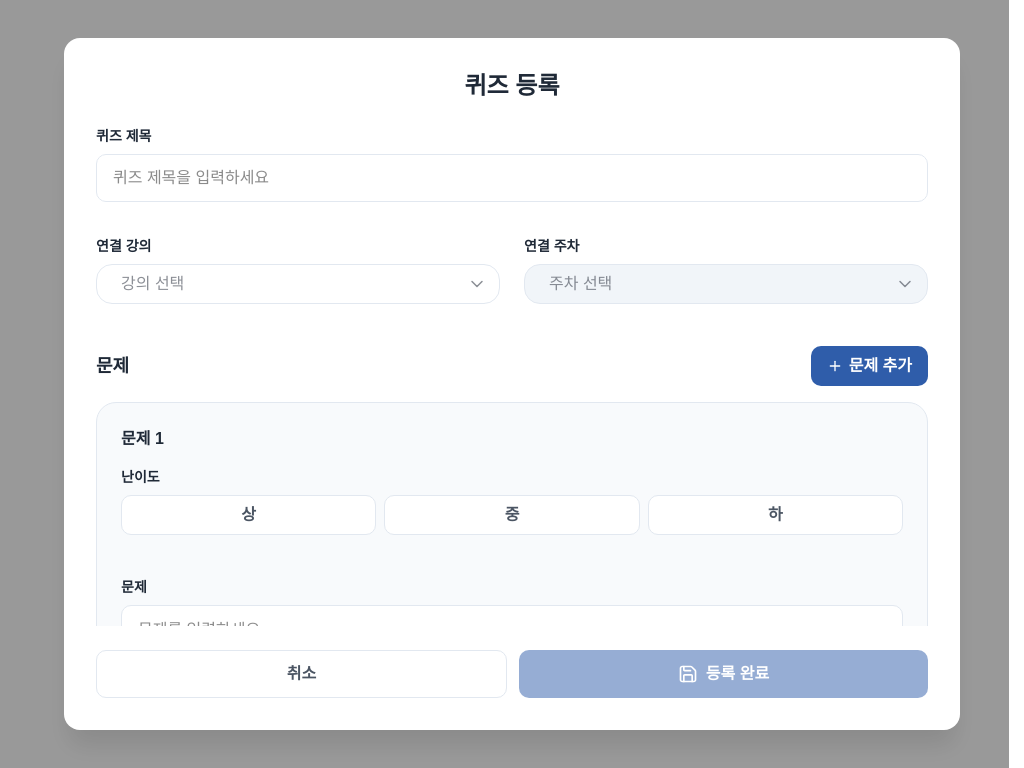
QuizFormModal — 퀴즈 등록 모달 통합 › 필수 빈칸 검증 › 난이도 선택하면 난이도 에러 해제 (BE 필수 필드)
Click the button "등록 완료".
click(724, 674)  # box [519,650,928,698]
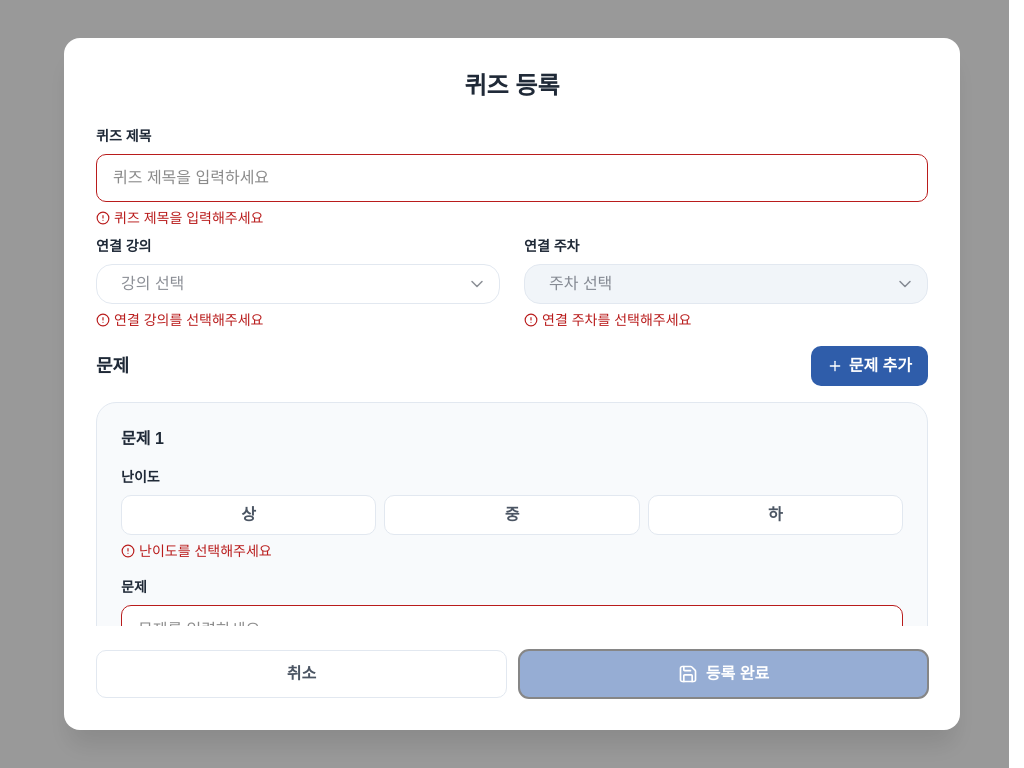
Expected: the text "난이도를 선택해주세요" is shown, [139,541,272,561]
Click the button named "난이도: 상".
click(249, 515)  # box [121,495,376,535]
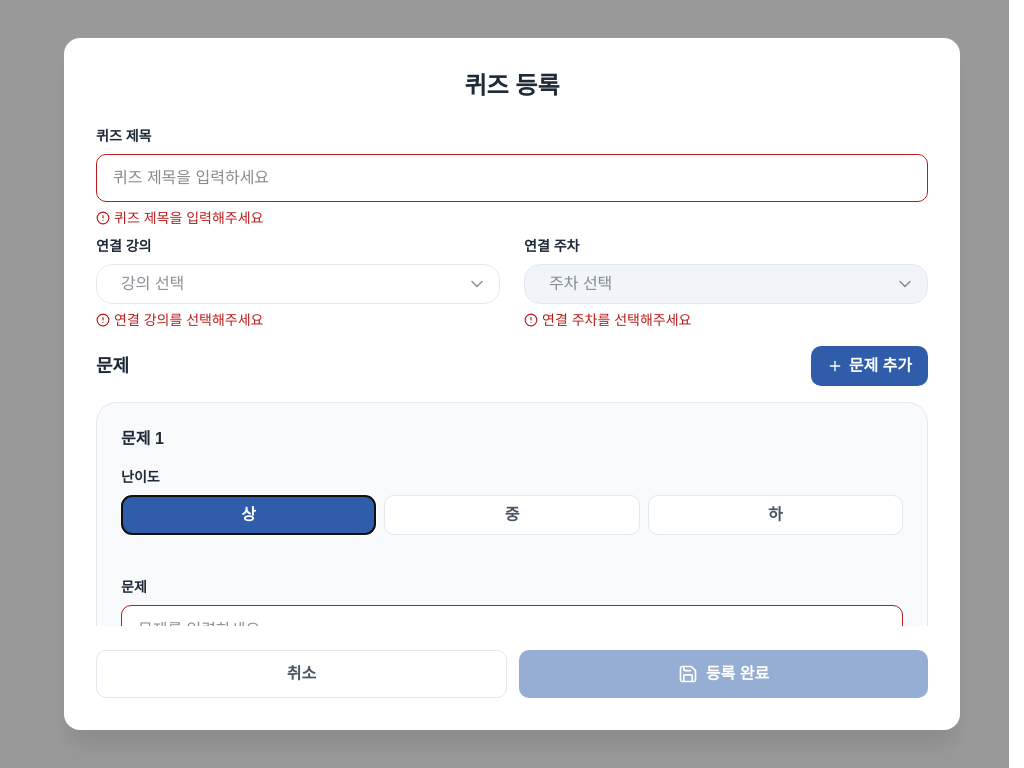
Expected: the text "난이도를 선택해주세요" is gone
